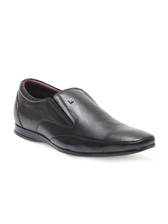shoes: (12, 76, 156, 159)
